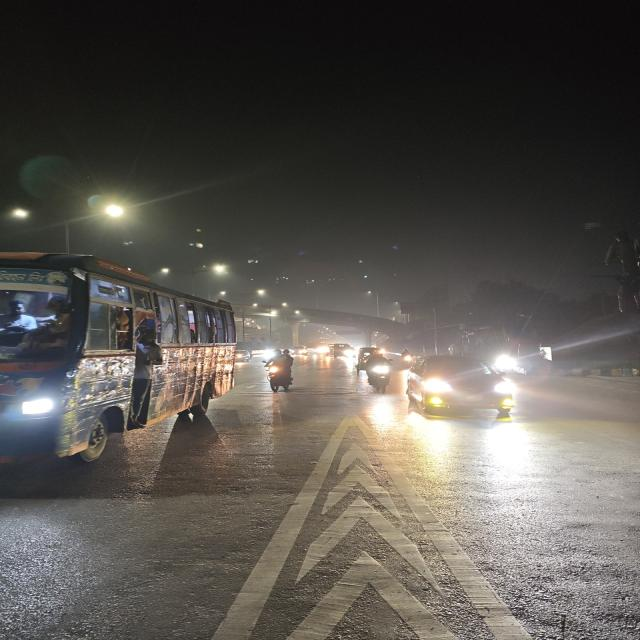bus: (0, 249, 242, 473)
car: (400, 354, 522, 424)
motorcycle: (259, 347, 303, 395), (361, 351, 392, 395)
